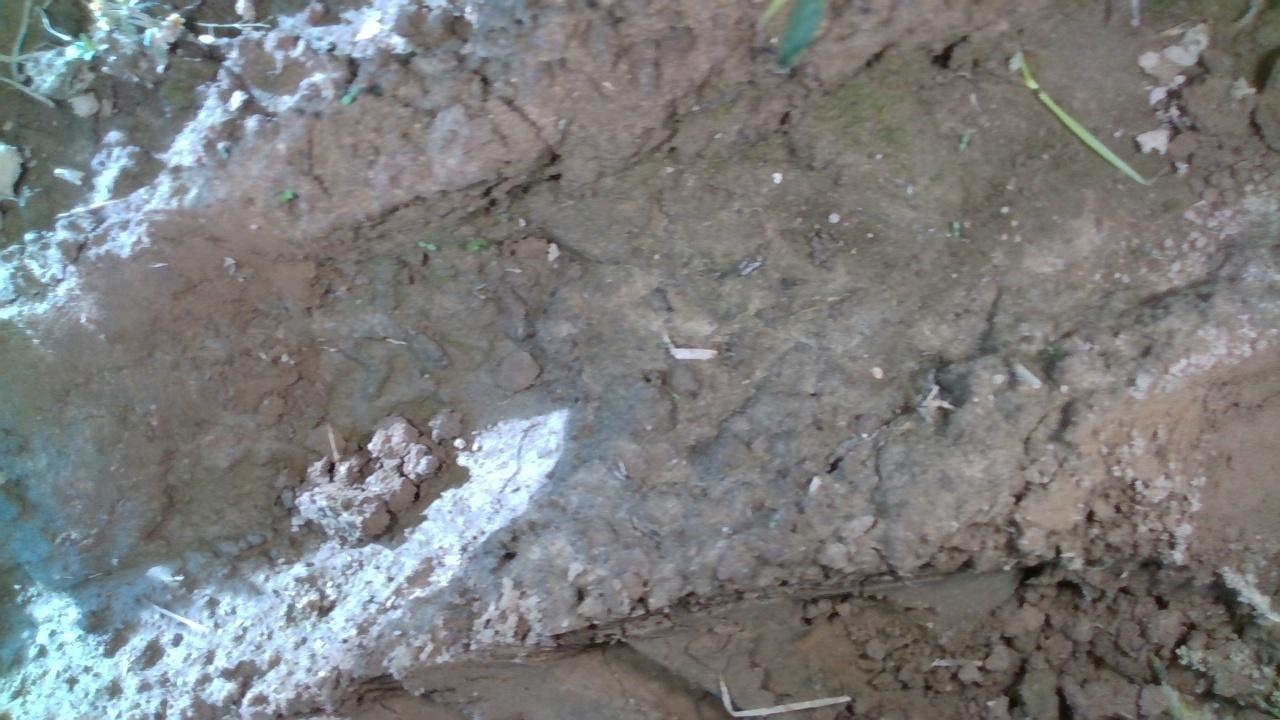weed: (337, 81, 360, 107), (955, 131, 970, 152), (414, 238, 438, 251), (949, 217, 962, 239)
